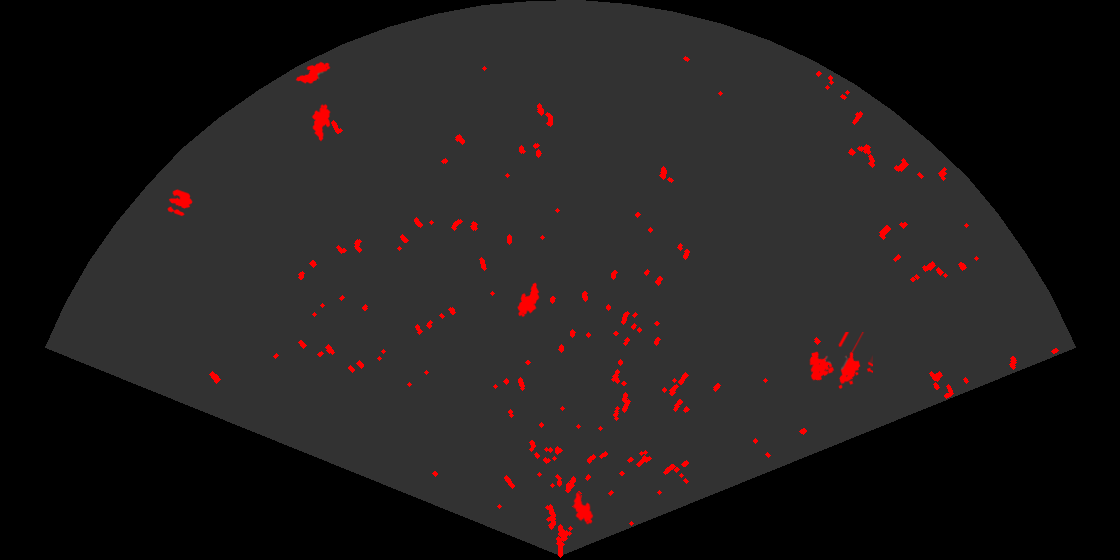AUV: (294, 60, 332, 86), (516, 281, 541, 319), (310, 102, 332, 143), (572, 491, 595, 526)
ball: (166, 188, 194, 218)
cage: (808, 332, 873, 391)
